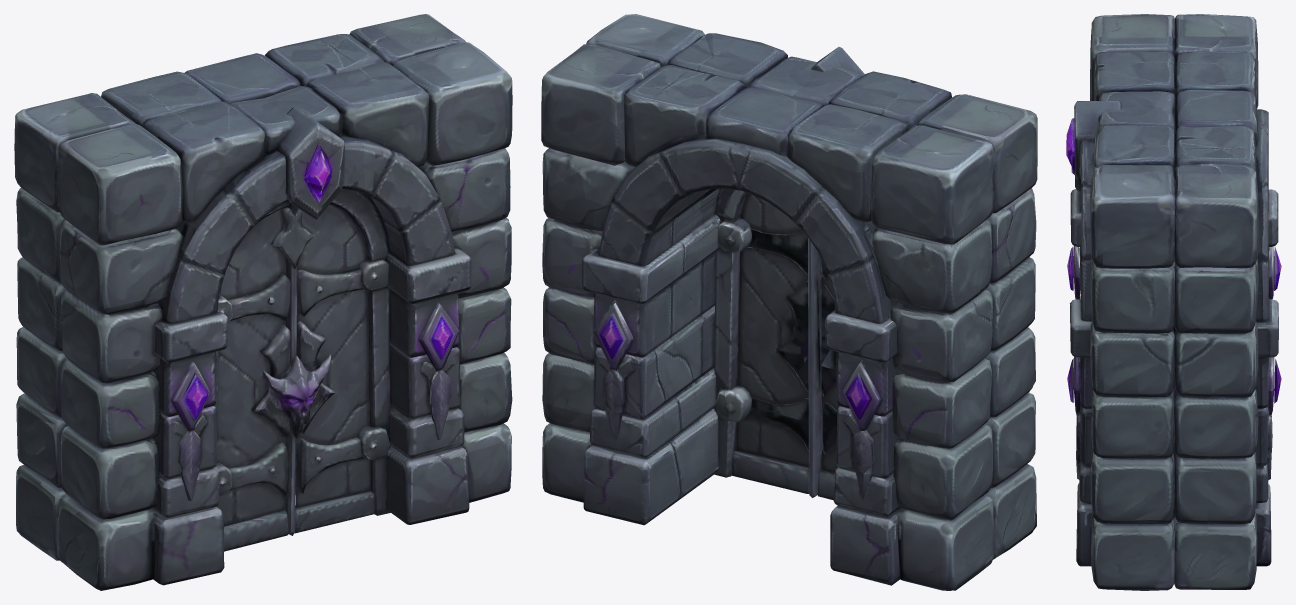
The model's file is door_standard_stone_leaves.glb.
The picture shows the model from 3 angles, left to right: view 1: azimuth 30°, elevation 25°; view 2: azimuth 150°, elevation 25°; view 3: azimuth 270°, elevation 25°; orthographic projection. The views are drawn at different scales.
Bounding box in the file's own units: 1 × 0.998 × 0.4873.
Materials: 1 (1 with a texture image).
